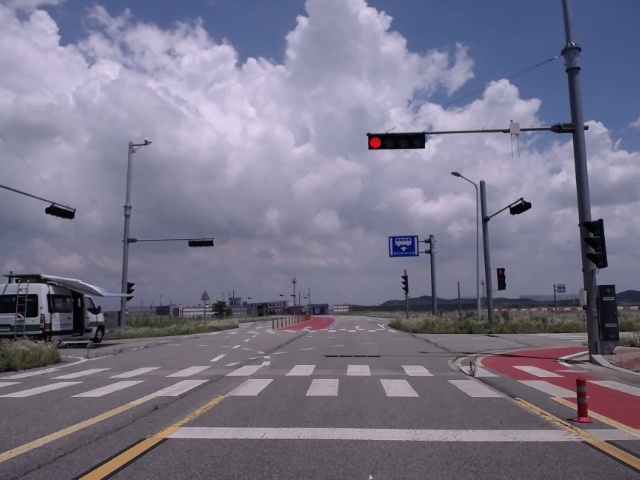red_4: (367, 133, 426, 149)
